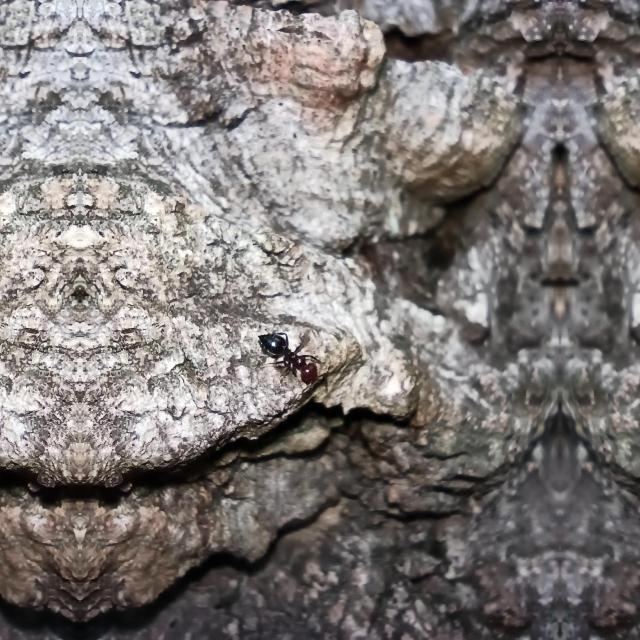Crematogaster: (256, 323, 328, 385)
